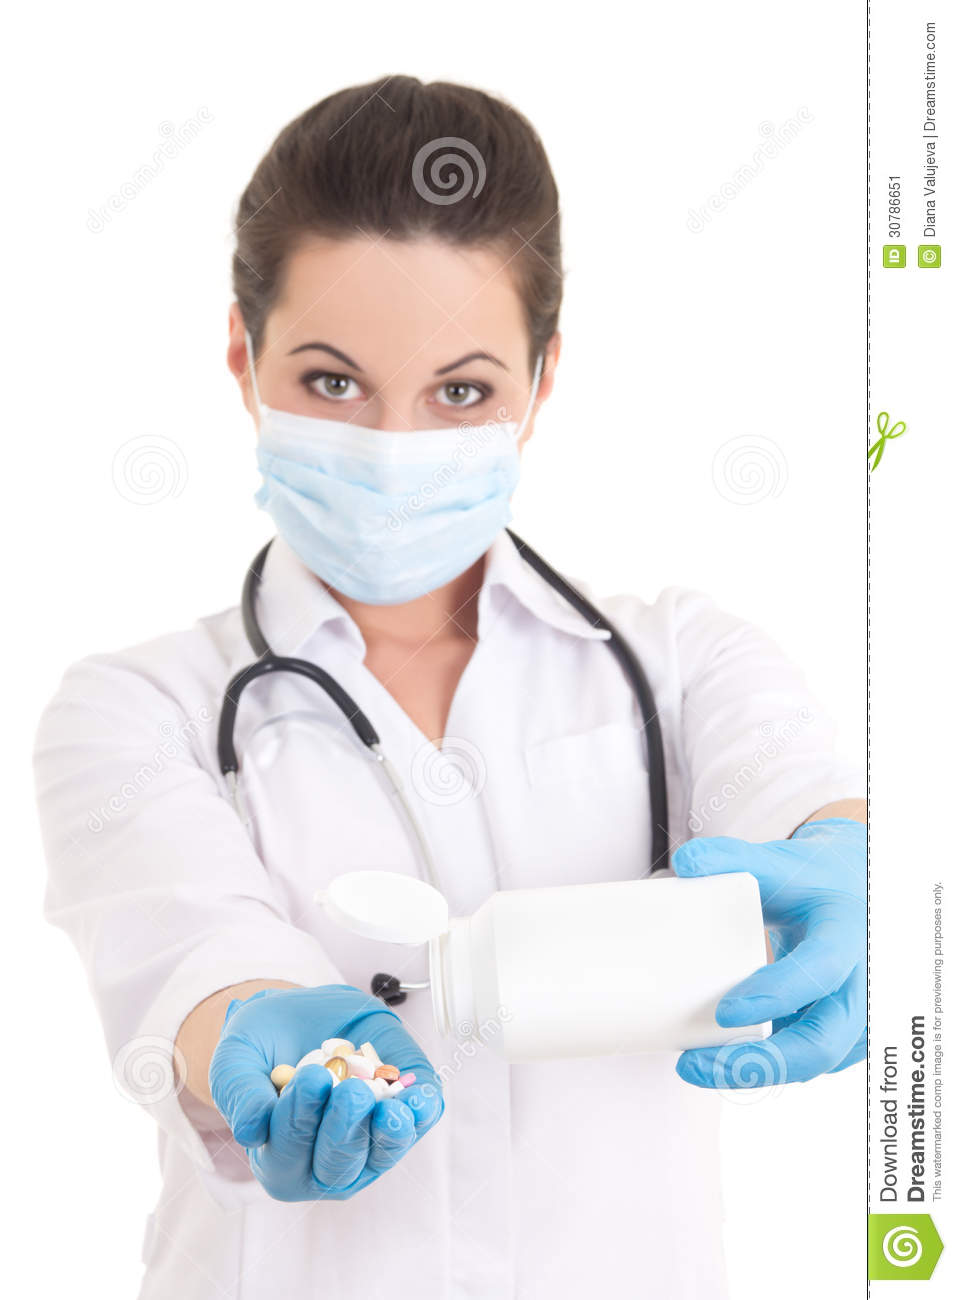mask: (250, 404, 522, 604)
